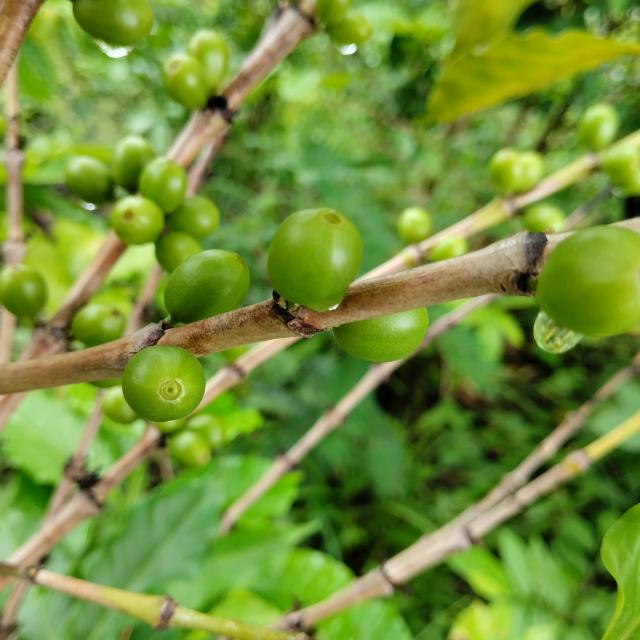green: (537, 225, 640, 336), (267, 208, 363, 312), (121, 346, 205, 422), (164, 249, 249, 323), (333, 308, 429, 363), (138, 156, 187, 214), (111, 195, 164, 244), (0, 264, 46, 317), (71, 303, 125, 347), (166, 196, 220, 238), (155, 232, 202, 273)
